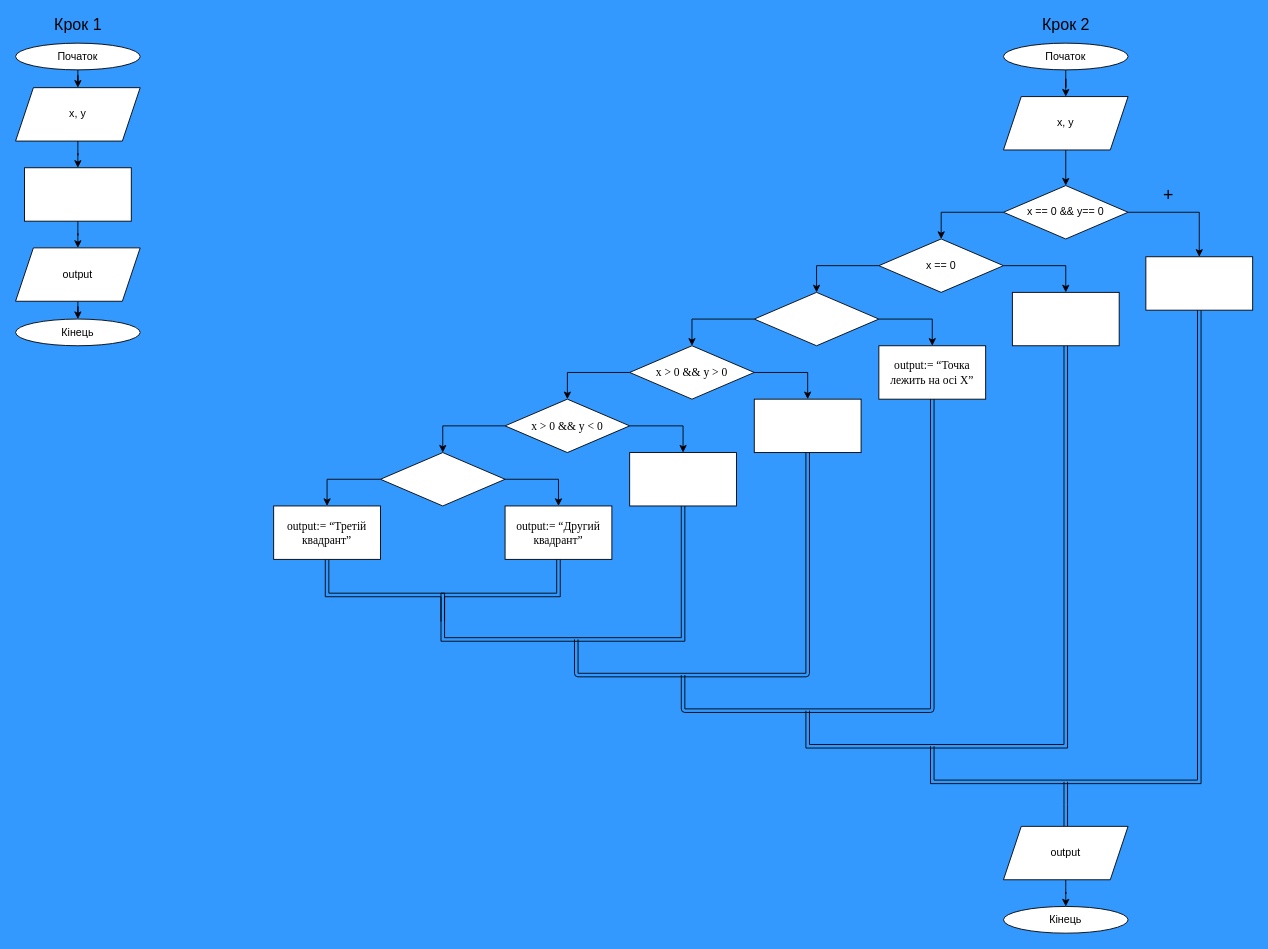
The diagram is 1268 pixels wide and 949 high, and some of its shapes have lost their labels. The shapes that lost their labels are listed below. From the top down, each one's centre as x and y in pixels, then its label:
At (x=77, y=194): "Визначення квадранта".
At (x=1199, y=283): "output:= “Точка лежить на початку координат”".
At (x=816, y=318): "y== 0".
At (x=1065, y=318): "output:= “ Точка лежить на осі Y ”".
At (x=807, y=425): "output:= “Перший квадрант”".
At (x=442, y=479): "x < 0 && y > 0".
At (x=682, y=479): "output:= “Четвертий квадрант”".
